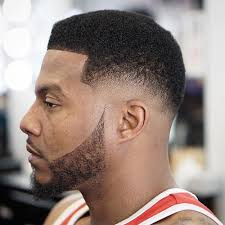black_male: (1, 36, 158, 197)
